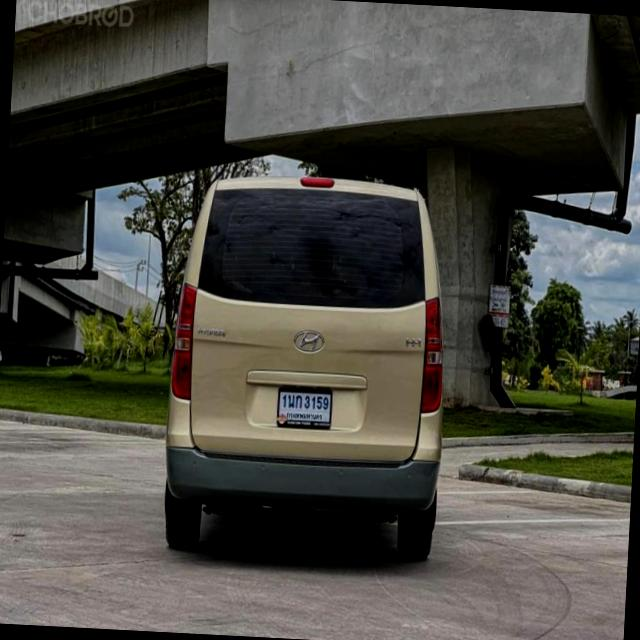license_plate: (276, 385, 333, 432)
